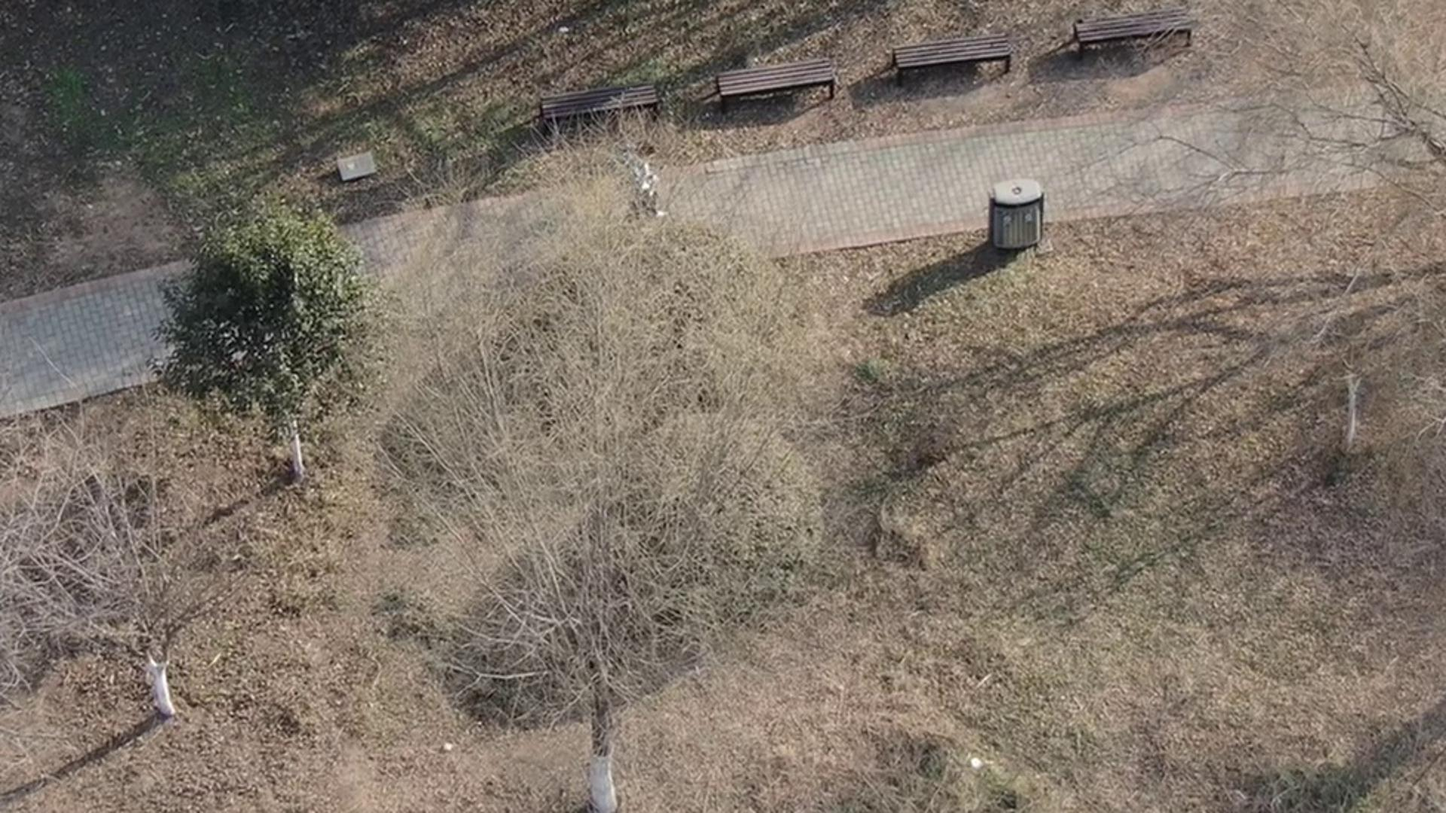human: (621, 153, 692, 237)
